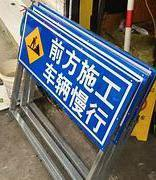sign: (13, 8, 132, 154)
